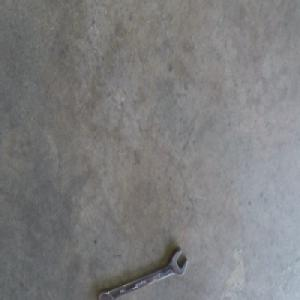Wrench: (98, 247, 186, 299)
